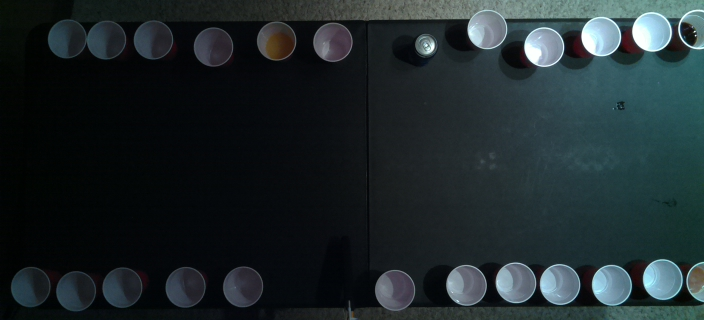can: (412, 30, 437, 58)
drink cup: (254, 20, 298, 62), (676, 8, 703, 52), (686, 260, 703, 303)
inactive bp cup: (99, 265, 143, 309), (577, 14, 622, 57), (309, 20, 354, 63), (372, 268, 417, 311), (163, 265, 207, 308), (493, 262, 537, 305), (521, 26, 566, 68), (539, 260, 581, 304), (9, 264, 51, 308), (442, 265, 488, 305), (54, 270, 97, 312), (221, 266, 264, 308), (590, 263, 632, 306), (641, 257, 684, 299), (131, 18, 173, 60), (465, 9, 508, 50), (629, 13, 672, 52), (190, 27, 234, 65), (46, 19, 87, 59), (86, 19, 127, 59)
